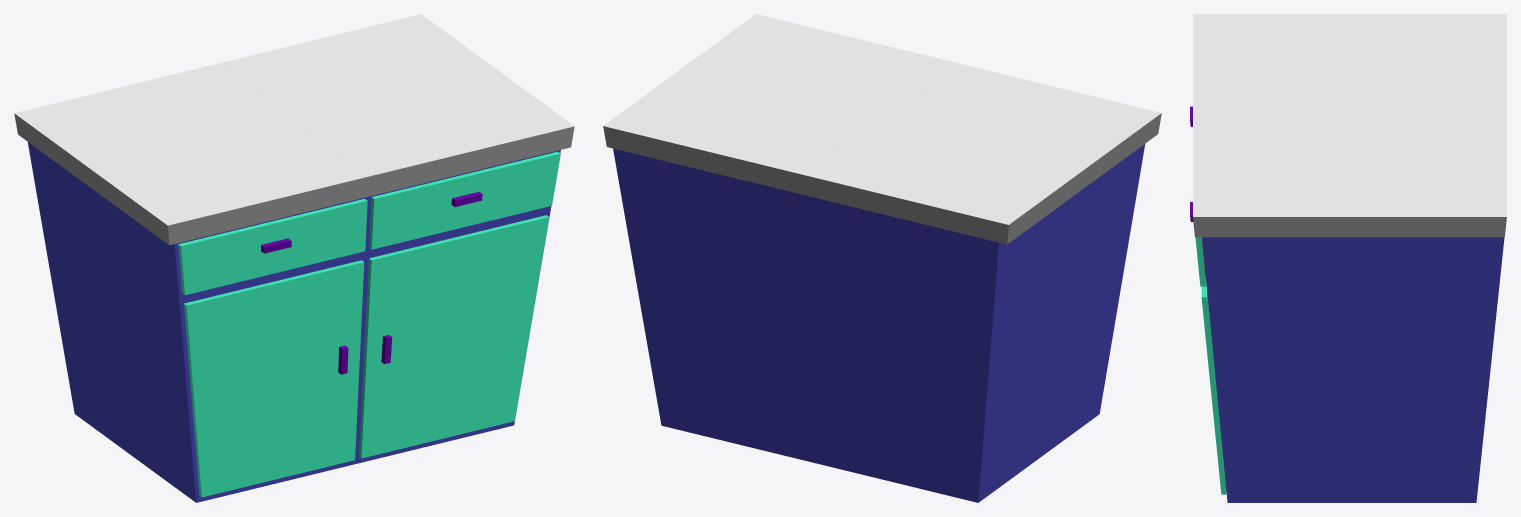
Rendered from House_Kitchen_Cupboard_Floor_oneShelf.FBX.
The picture shows the model from 3 angles, left to right: view 1: azimuth 30°, elevation 25°; view 2: azimuth 150°, elevation 25°; view 3: azimuth 270°, elevation 25°; orthographic projection. The views are drawn at different scales.
Visible parts, largest first — view 1: House_Kitchen_Cupboard_Floor_oneShelf_counterTopLeft, House_Kitchen_Cupboard_Floor_oneShelf__bodyLeft, House_Kitchen_Cupboard_Floor_oneShelf_counterTopRight, House_Kitchen_Cupboard_Floor_oneShelf_doorRight, House_Kitchen_Cupboard_Floor_oneShelf_doorLeft, House_Kitchen_Cupboard_Floor_oneShelf_drawerRight, House_Kitchen_Cupboard_Floor_oneShelf_drawerLeft, House_Kitchen_Cupboard_Floor_oneShelf_bodyRight; view 2: House_Kitchen_Cupboard_Floor_oneShelf__bodyLeft, House_Kitchen_Cupboard_Floor_oneShelf_bodyRight, House_Kitchen_Cupboard_Floor_oneShelf_counterTopLeft, House_Kitchen_Cupboard_Floor_oneShelf_counterTopRight; view 3: House_Kitchen_Cupboard_Floor_oneShelf_bodyRight, House_Kitchen_Cupboard_Floor_oneShelf_counterTopRight, House_Kitchen_Cupboard_Floor_oneShelf_counterTopLeft, House_Kitchen_Cupboard_Floor_oneShelf_doorRight, House_Kitchen_Cupboard_Floor_oneShelf_drawerRight.
Part boxes in pixels (bbox=[...]): House_Kitchen_Cupboard_Floor_oneShelf_counterTopLeft: bbox=[14, 63, 372, 245]; House_Kitchen_Cupboard_Floor_oneShelf__bodyLeft: bbox=[27, 142, 367, 502]; House_Kitchen_Cupboard_Floor_oneShelf_counterTopRight: bbox=[219, 14, 574, 195]; House_Kitchen_Cupboard_Floor_oneShelf_doorRight: bbox=[359, 215, 549, 458]; House_Kitchen_Cupboard_Floor_oneShelf_doorLeft: bbox=[184, 260, 364, 497]; House_Kitchen_Cupboard_Floor_oneShelf_drawerRight: bbox=[369, 151, 560, 249]; House_Kitchen_Cupboard_Floor_oneShelf_drawerLeft: bbox=[178, 199, 367, 295]; House_Kitchen_Cupboard_Floor_oneShelf_bodyRight: bbox=[355, 150, 560, 463]; House_Kitchen_Cupboard_Floor_oneShelf__bodyLeft: bbox=[806, 144, 1145, 502]; House_Kitchen_Cupboard_Floor_oneShelf_bodyRight: bbox=[613, 148, 819, 464]; House_Kitchen_Cupboard_Floor_oneShelf_counterTopLeft: bbox=[805, 63, 1161, 244]; House_Kitchen_Cupboard_Floor_oneShelf_counterTopRight: bbox=[603, 14, 957, 195]; House_Kitchen_Cupboard_Floor_oneShelf_bodyRight: bbox=[1202, 237, 1504, 502]; House_Kitchen_Cupboard_Floor_oneShelf_counterTopRight: bbox=[1193, 116, 1506, 237]; House_Kitchen_Cupboard_Floor_oneShelf_counterTopLeft: bbox=[1193, 14, 1506, 115]; House_Kitchen_Cupboard_Floor_oneShelf_doorRight: bbox=[1201, 281, 1226, 494]; House_Kitchen_Cupboard_Floor_oneShelf_drawerRight: bbox=[1190, 202, 1205, 286].
Bounding box in the file's own units: 226 × 160 × 149.
